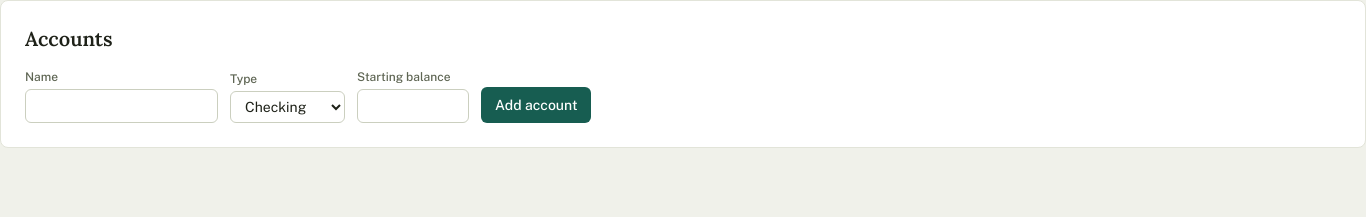
it: AccountsPanel › adds a new account to the list after submitting the form
In the field labelled "Name": (122, 106) [25,89,218,123], type "Savings"
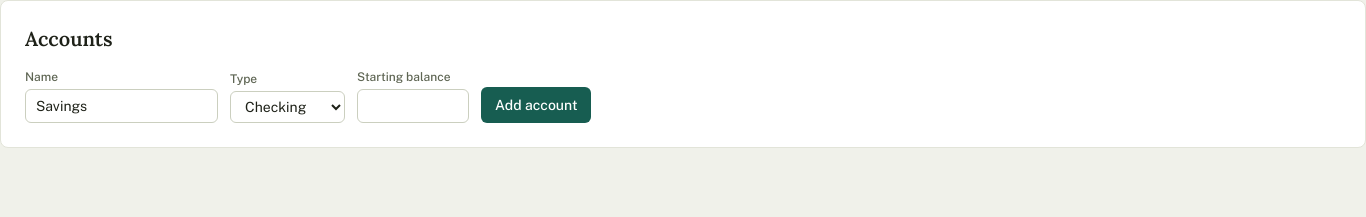
Select "Savings" in the dropdown labelled "Type": (288, 107) [230,91,345,123]
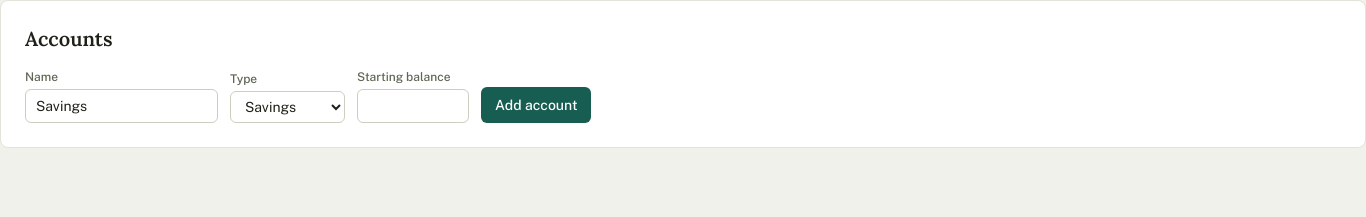
In the field labelled "Starting balance": (413, 106) [357,89,469,123], type "500.00"
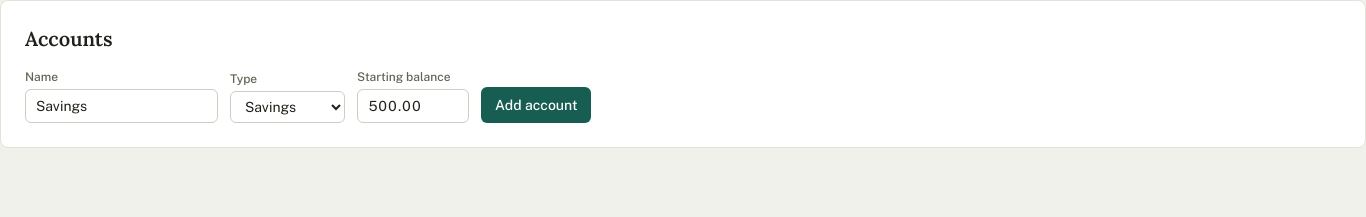
Click the button "Add account": (536, 105) [481,87,592,123]
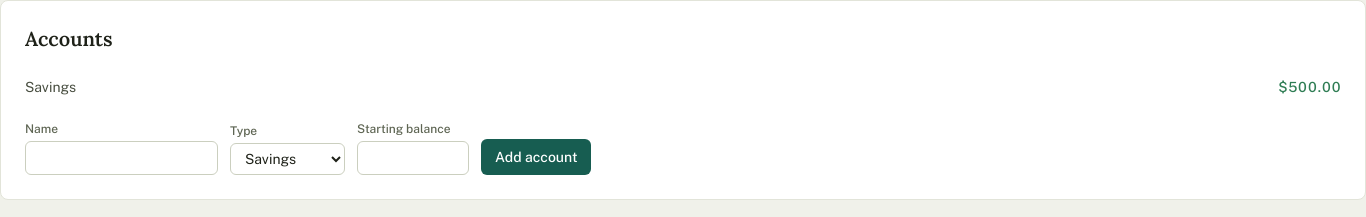
expect the text "$500.00" is shown: met, box [1278,79,1341,95]
